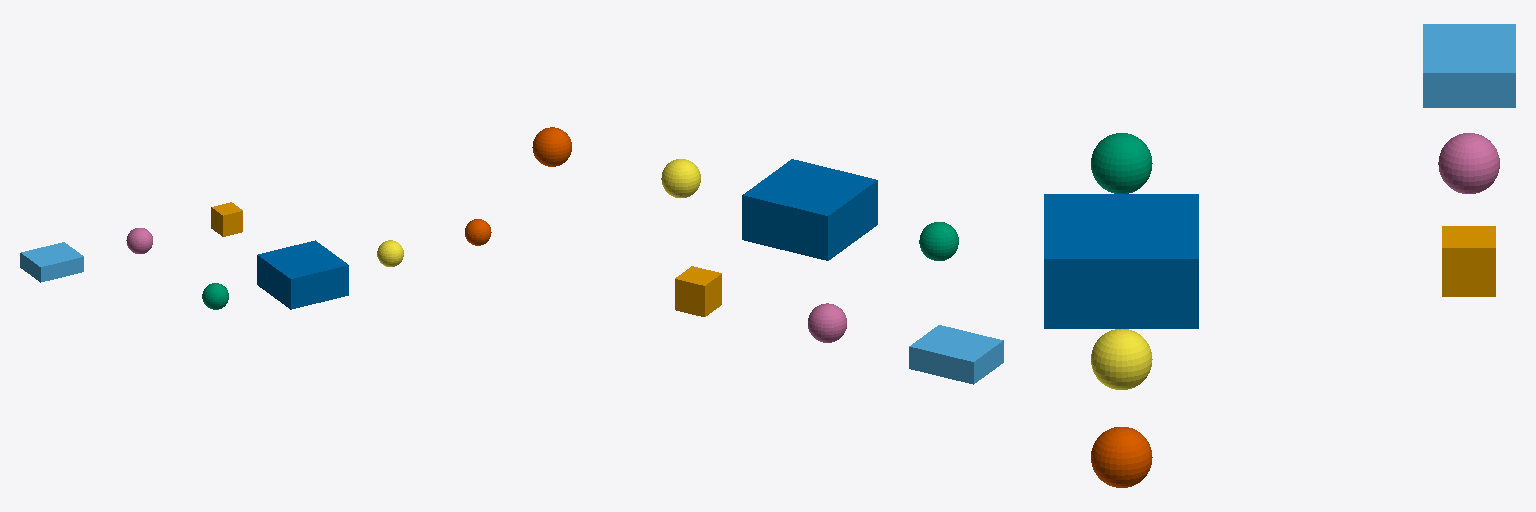
The robot description file, URDF, robot "method_of_automatic_limitation_for_one_controlled_variable_of_a_":
<?xml version="1.0" ?>
<robot name="method_of_automatic_limitation_for_one_controlled_variable_of_a_multivariable_controlled_object">
  <link name="closed_loop">
    <visual>
      <geometry>
        <box size="0.014 0.014 0.014"/>
      </geometry>
    </visual>
  </link>
  <link name="control_means">
    <visual>
      <geometry>
        <box size="0.03 0.024 0.01"/>
      </geometry>
    </visual>
  </link>
  <link name="controlled_variable">
    <visual>
      <geometry>
        <sphere radius="0.008"/>
      </geometry>
    </visual>
  </link>
  <link name="limited_level">
    <visual>
      <geometry>
        <sphere radius="0.008"/>
      </geometry>
    </visual>
  </link>
  <link name="multivariable_controlled_object">
    <visual>
      <geometry>
        <box size="0.04 0.04 0.02"/>
      </geometry>
    </visual>
  </link>
  <link name="preestablished_deviation">
    <visual>
      <geometry>
        <sphere radius="0.008"/>
      </geometry>
    </visual>
  </link>
  <link name="set_point">
    <visual>
      <geometry>
        <sphere radius="0.008"/>
      </geometry>
    </visual>
  </link>
  <joint name="_attach_control_means_to_closed_loop" type="fixed">
    <parent link="control_means"/>
    <child link="closed_loop"/>
    <origin xyz="0.1200 0.0000 0.0000" rpy="0 0 0"/>
  </joint>
  <joint name="_attach_control_means_to_controlled_variable" type="fixed">
    <parent link="control_means"/>
    <child link="controlled_variable"/>
    <origin xyz="0.0600 -0.0900 0.0000" rpy="0 0 0"/>
  </joint>
  <joint name="_attach_control_means_to_limited_level" type="fixed">
    <parent link="control_means"/>
    <child link="limited_level"/>
    <origin xyz="0.1800 -0.0900 0.0000" rpy="0 0 0"/>
  </joint>
  <joint name="_attach_control_means_to_multivariable_controlled_object" type="fixed">
    <parent link="control_means"/>
    <child link="multivariable_controlled_object"/>
    <origin xyz="0.1200 -0.0900 0.0000" rpy="0 0 0"/>
  </joint>
  <joint name="_attach_control_means_to_preestablished_deviation" type="fixed">
    <parent link="control_means"/>
    <child link="preestablished_deviation"/>
    <origin xyz="0.2400 -0.0900 0.0000" rpy="0 0 0"/>
  </joint>
  <joint name="_attach_control_means_to_set_point" type="fixed">
    <parent link="control_means"/>
    <child link="set_point"/>
    <origin xyz="0.0600 0.0000 0.0000" rpy="0 0 0"/>
  </joint>
</robot>

--- What the picture shows (computed from the rendered views, not written in the file) ---
3 views of the same robot in one strip: view 1: azimuth 30°, elevation 25°; view 2: azimuth 150°, elevation 25°; view 3: azimuth 270°, elevation 25° (orthographic).
Robot: method_of_automatic_limitation_for_one_controlled_variable_of_a_ — 7 links, 6 joints (6 fixed); root link control_means; default pose: all joints at 0.
Visible links, largest first — view 1: multivariable_controlled_object, control_means, closed_loop, limited_level, controlled_variable, preestablished_deviation, set_point; view 2: multivariable_controlled_object, control_means, closed_loop, preestablished_deviation, controlled_variable, limited_level, set_point; view 3: multivariable_controlled_object, control_means, closed_loop, limited_level, controlled_variable, preestablished_deviation, set_point.
Link boxes in pixels (<box>): multivariable_controlled_object: <box>257,240,348,309</box>; control_means: <box>20,242,83,282</box>; closed_loop: <box>211,202,242,236</box>; limited_level: <box>377,240,403,266</box>; controlled_variable: <box>202,283,228,309</box>; preestablished_deviation: <box>465,219,491,245</box>; set_point: <box>126,228,152,253</box>; multivariable_controlled_object: <box>742,159,877,260</box>; control_means: <box>909,325,1003,384</box>; closed_loop: <box>675,266,721,316</box>; preestablished_deviation: <box>532,127,571,166</box>; controlled_variable: <box>919,222,958,260</box>; limited_level: <box>661,159,700,197</box>; set_point: <box>808,303,846,342</box>; multivariable_controlled_object: <box>1044,194,1198,328</box>; control_means: <box>1423,24,1515,107</box>; closed_loop: <box>1442,226,1495,296</box>; limited_level: <box>1091,329,1152,389</box>; controlled_variable: <box>1091,133,1152,193</box>; preestablished_deviation: <box>1091,427,1152,487</box>; set_point: <box>1438,133,1499,193</box>.
Size in the robot's own frame: 0.263 by 0.122 by 0.02 metres.
Geometry: primitives only (box / cylinder / sphere), no mesh files.
